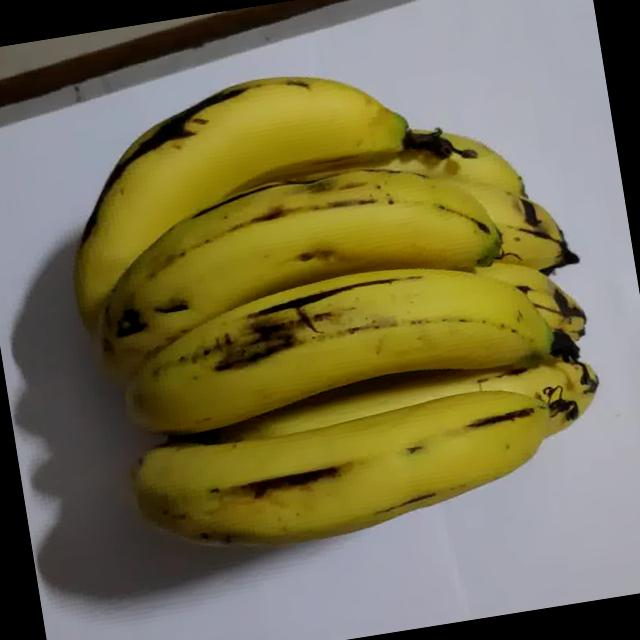banana_pacche: (0, 9, 616, 625)
